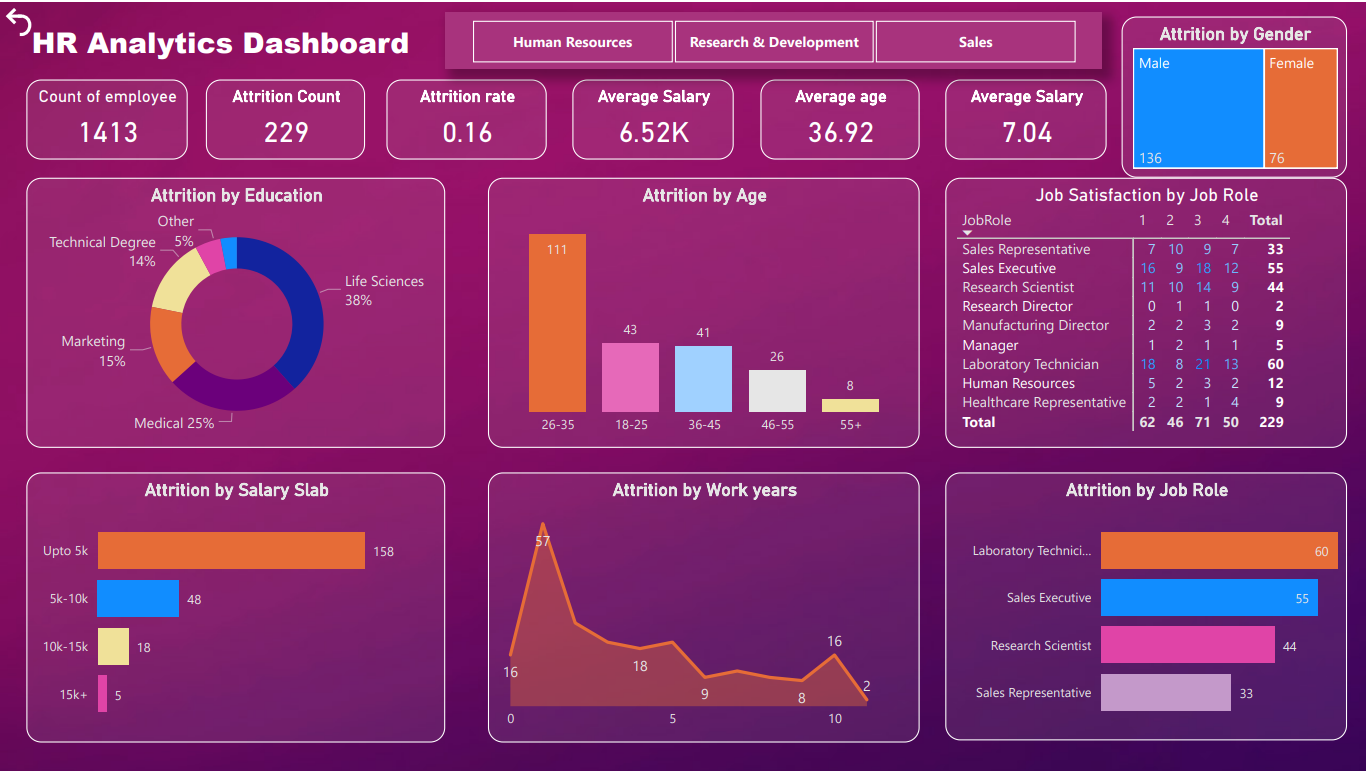

This screenshot's page, from the dashboard's own definition file:
{"tool":"powerbi","page":{"name":"Page 1","canvas":[1280,720],"ordinal":0},"visuals":[{"type":"card","title":"Count of employee","fields":{"Values":["Count(HR_Analytics.EmpID)"]},"box":[24.5,71.7,151,75.5],"z":0},{"type":"card","title":"Attrition Count ","fields":{"Values":["Sum(HR_Analytics.AttritionCount)"]},"box":[192.6,71.7,149.1,75.5],"z":1000},{"type":"card","title":"Attrition rate","fields":{"Values":["HR_Analytics.AttritionRate"]},"box":[362.5,71.7,149.1,75.5],"z":2000},{"type":"card","title":"Average Salary","fields":{"Values":["Avg(HR_Analytics.MonthlyIncome)"]},"box":[536.2,71.7,151,75.5],"z":3000},{"type":"card","title":"Average age","fields":{"Values":["Avg(HR_Analytics.Age)"]},"box":[711.7,71.7,149.1,75.5],"z":3002},{"type":"card","title":"Average Salary","fields":{"Values":["Avg(HR_Analytics.YearsAtCompany)"]},"box":[885.4,71.7,151,75.5],"z":3003},{"type":"donutChart","title":"Attrition by Education","fields":{"Category":["HR_Analytics.EducationField"],"Y":["Sum(HR_Analytics.AttritionCount)"]},"box":[24.5,164.2,392.7,253],"z":3004},{"type":"columnChart","title":"Attrition by Age","fields":{"Category":["HR_Analytics.AgeGroup"],"Y":["Sum(HR_Analytics.AttritionCount)"]},"box":[456.9,164.2,404,253],"z":3005},{"type":"pivotTable","title":"Job Satisfaction by Job Role","fields":{"Values":["Sum(HR_Analytics.AttritionCount)"],"Rows":["HR_Analytics.JobRole"],"Columns":["HR_Analytics.JobSatisfaction"]},"box":[885.4,164.2,375.7,253],"z":3006},{"type":"barChart","title":"Attrition by Salary Slab","fields":{"Category":["HR_Analytics.SalarySlab"],"Y":["Sum(HR_Analytics.AttritionCount)"]},"box":[24.5,439.9,392.7,253],"z":3007},{"type":"barChart","title":"Attrition by Job Role","fields":{"Y":["Sum(HR_Analytics.AttritionCount)"],"Category":["HR_Analytics.JobRole"]},"box":[885.4,439.9,375.7,251.1],"z":3008},{"type":"areaChart","title":"Attrition by Work years","fields":{"Category":["HR_Analytics.YearsAtCompany"],"Y":["Sum(HR_Analytics.AttritionCount)"]},"box":[456.9,439.9,404,253],"z":3009},{"type":"treemap","title":"Attrition by Gender","fields":{"Group":["HR_Analytics.Gender"],"Values":["Sum(HR_Analytics.AttritionCount)"]},"box":[1049.7,13.2,211.4,151],"z":3010},{"type":"slicer","fields":{"Values":["HR_Analytics.Department"]},"box":[417.2,9.4,613.6,52.9],"z":3011},{"type":"textbox","box":[24.5,13.2,379.5,52.9],"z":3012},{"type":"actionButton","box":[0,0,51,35.9],"z":3013}]}

Visuals, with their boxes in screenshot pixels (x1, y1, x2, y2), scaled from the page's 1280x720 canvas onto the 1366x771 screenshot:
"Count of employee" card: region(26, 77, 187, 158)
"Attrition Count " card: region(206, 77, 365, 158)
"Attrition rate" card: region(387, 77, 546, 158)
"Average Salary" card: region(572, 77, 733, 158)
"Average age" card: region(760, 77, 919, 158)
"Average Salary" card: region(945, 77, 1106, 158)
"Attrition by Education" donutChart: region(26, 176, 445, 447)
"Attrition by Age" columnChart: region(488, 176, 919, 447)
"Job Satisfaction by Job Role" pivotTable: region(945, 176, 1346, 447)
"Attrition by Salary Slab" barChart: region(26, 471, 445, 742)
"Attrition by Job Role" barChart: region(945, 471, 1346, 740)
"Attrition by Work years" areaChart: region(488, 471, 919, 742)
"Attrition by Gender" treemap: region(1120, 14, 1346, 176)
slicer - HR_Analytics.Department: region(445, 10, 1100, 67)
textbox: region(26, 14, 431, 71)
actionButton: region(0, 0, 54, 38)
